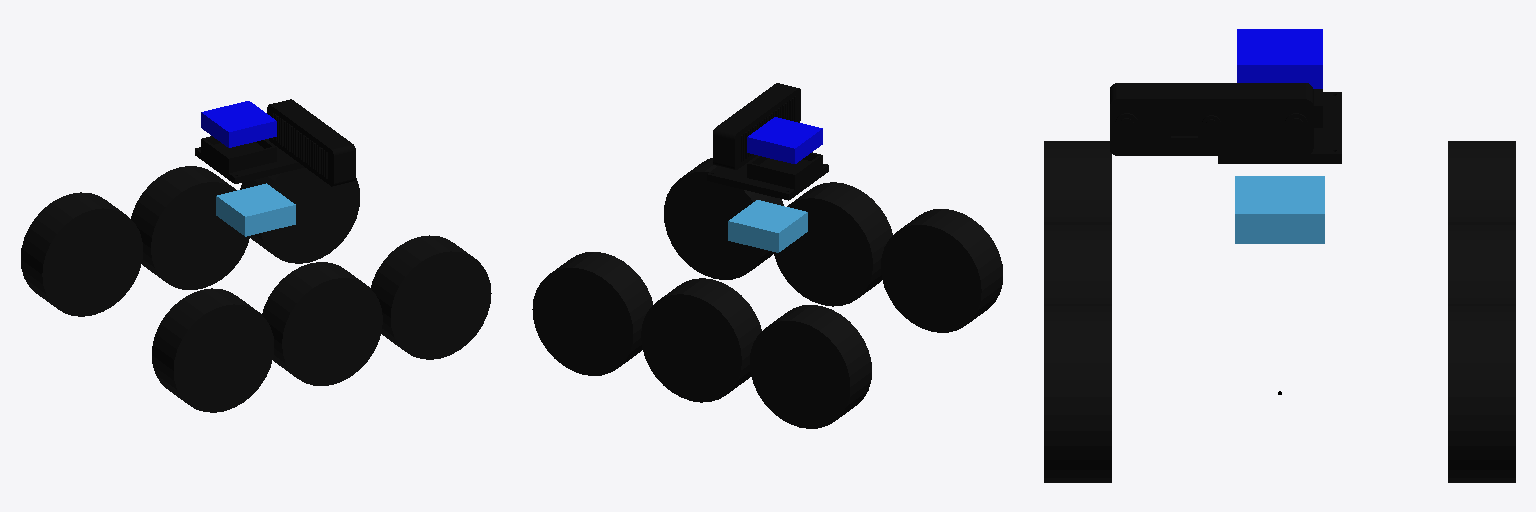
robot.urdf — mickrobot:
<?xml version='1.0' encoding='utf-8'?>
<robot name="mickrobot">
  <link name="base_footprint">
    <visual>
      <geometry>
        <sphere radius="0.001" />
      </geometry>
      <material name="invisible">
        <color rgba="0 0 0 0" />
      </material>
    </visual>
  </link>
  <joint name="base_joint" type="fixed">
    <parent link="base_footprint" />
    <child link="base_link" />
    <origin xyz="0 0 0" rpy="0 0 0" />
  </joint>
  <link name="top_payload_link">
    <visual>
      <origin xyz="0 0 0" rpy="0 0 0" />
      <geometry>
        <mesh filename="package://mickrobot_description/urdf/mesh/board_camera_radar_assembly.stl" scale="1 1 1" />
      </geometry>
      <material name="payload_dark">
        <color rgba="0.08 0.08 0.08 1" />
      </material>
    </visual>
    <collision>
      <origin xyz="0 0 0.0165" rpy="0 0 0" />
      <geometry>
        <box size="0.07 0.104 0.033" />
      </geometry>
    </collision>
    <inertial>
      <mass value="0.2" />
      <origin xyz="0 0 0.0165" rpy="0 0 0" />
      <inertia ixx="1e-4" ixy="0" ixz="0" iyy="1e-4" iyz="0" izz="1e-4" />
    </inertial>
  </link>
  <joint name="top_payload_joint" type="fixed">
    <parent link="base_link" />
    <child link="top_payload_link" />
    <origin xyz="0 0 0.128031" rpy="0 0 0" />
  </joint>
  <link name="base_link">
    <visual>
      <origin xyz="0 0 0.082" rpy="0 0 0" />
      <geometry>
        <mesh filename="package://mickrobot_description/urdf/mesh/ugv01_body.STL" scale="0.001 0.001 0.001" />
      </geometry>
      <material name="chassis_gray">
        <color rgba="0.3 0.3 0.3 1" />
      </material>
    </visual>
    <collision>
      <origin xyz="0 0 0.07" rpy="0 0 0" />
      <geometry>
        <box size="0.253 0.23 0.14" />
      </geometry>
    </collision>
    <inertial>
      <mass value="5" />
      <origin xyz="0 0 0.065" rpy="0 0 0" />
      <inertia ixx="0.02" ixy="0" ixz="0" iyy="0.03" iyz="0" izz="0.04" />
    </inertial>
  </link>
  <link name="right_back_wheel">
    <visual>
      <origin xyz="0 0 0" rpy="1.57079 0 0" />
      <geometry>
        <cylinder radius="0.04" length="0.03" />
      </geometry>
      <material name="wheel_black">
        <color rgba="0.1 0.1 0.1 1" />
      </material>
    </visual>
    <collision>
      <origin xyz="0 0 0" rpy="1.57079 0 0" />
      <geometry>
        <cylinder radius="0.04" length="0.03" />
      </geometry>
    </collision>
    <inertial>
      <mass value="0.5" />
      <origin xyz="0 0 0" rpy="1.57079 0 0" />
      <inertia ixx="0.00024" ixy="0" ixz="0" iyy="0.00024" iyz="0" izz="0.0004" />
    </inertial>
  </link>
  <joint name="right_back_wheel_joint" type="continuous">
    <axis xyz="0 1 0" />
    <parent link="base_link" />
    <child link="right_back_wheel" />
    <origin xyz="-0.086 -0.09 0.04" />
    <limit effort="100" velocity="100" />
    <dynamics damping="0.1" friction="0.05" />
  </joint>
  <link name="right_front_wheel">
    <visual>
      <origin xyz="0 0 0" rpy="1.57079 0 0" />
      <geometry>
        <cylinder radius="0.04" length="0.03" />
      </geometry>
      <material name="wheel_black">
        <color rgba="0.1 0.1 0.1 1" />
      </material>
    </visual>
    <collision>
      <origin xyz="0 0 0" rpy="1.57079 0 0" />
      <geometry>
        <cylinder radius="0.04" length="0.03" />
      </geometry>
    </collision>
    <inertial>
      <mass value="0.5" />
      <origin xyz="0 0 0" rpy="1.57079 0 0" />
      <inertia ixx="0.00024" ixy="0" ixz="0" iyy="0.00024" iyz="0" izz="0.0004" />
    </inertial>
  </link>
  <joint name="right_front_wheel_joint" type="continuous">
    <axis xyz="0 1 0" />
    <parent link="base_link" />
    <child link="right_front_wheel" />
    <origin xyz="0.086 -0.09 0.04" />
    <limit effort="100" velocity="100" />
    <dynamics damping="0.1" friction="0.05" />
  </joint>
  <link name="left_back_wheel">
    <visual>
      <origin xyz="0 0 0" rpy="1.57079 0 0" />
      <geometry>
        <cylinder radius="0.04" length="0.03" />
      </geometry>
      <material name="wheel_black">
        <color rgba="0.1 0.1 0.1 1" />
      </material>
    </visual>
    <collision>
      <origin xyz="0 0 0" rpy="1.57079 0 0" />
      <geometry>
        <cylinder radius="0.04" length="0.03" />
      </geometry>
    </collision>
    <inertial>
      <mass value="0.5" />
      <origin xyz="0 0 0" rpy="1.57079 0 0" />
      <inertia ixx="0.00024" ixy="0" ixz="0" iyy="0.00024" iyz="0" izz="0.0004" />
    </inertial>
  </link>
  <joint name="left_back_wheel_joint" type="continuous">
    <axis xyz="0 1 0" />
    <parent link="base_link" />
    <child link="left_back_wheel" />
    <origin xyz="-0.086 0.09 0.04" />
    <limit effort="100" velocity="100" />
    <dynamics damping="0.1" friction="0.05" />
  </joint>
  <link name="left_front_wheel">
    <visual>
      <origin xyz="0 0 0" rpy="1.57079 0 0" />
      <geometry>
        <cylinder radius="0.04" length="0.03" />
      </geometry>
      <material name="wheel_black">
        <color rgba="0.1 0.1 0.1 1" />
      </material>
    </visual>
    <collision>
      <origin xyz="0 0 0" rpy="1.57079 0 0" />
      <geometry>
        <cylinder radius="0.04" length="0.03" />
      </geometry>
    </collision>
    <inertial>
      <mass value="0.5" />
      <origin xyz="0 0 0" rpy="1.57079 0 0" />
      <inertia ixx="0.00024" ixy="0" ixz="0" iyy="0.00024" iyz="0" izz="0.0004" />
    </inertial>
  </link>
  <joint name="left_front_wheel_joint" type="continuous">
    <axis xyz="0 1 0" />
    <parent link="base_link" />
    <child link="left_front_wheel" />
    <origin xyz="0.086 0.09 0.04" />
    <limit effort="100" velocity="100" />
    <dynamics damping="0.1" friction="0.05" />
  </joint>
  <link name="right_mid_wheel">
    <visual>
      <origin xyz="0 0 0" rpy="1.57079 0 0" />
      <geometry>
        <cylinder radius="0.04" length="0.03" />
      </geometry>
      <material name="wheel_black">
        <color rgba="0.1 0.1 0.1 1" />
      </material>
    </visual>
    <collision>
      <origin xyz="0 0 0" rpy="1.57079 0 0" />
      <geometry>
        <cylinder radius="0.04" length="0.03" />
      </geometry>
    </collision>
    <inertial>
      <mass value="0.5" />
      <origin xyz="0 0 0" rpy="1.57079 0 0" />
      <inertia ixx="0.00024" ixy="0" ixz="0" iyy="0.00024" iyz="0" izz="0.0004" />
    </inertial>
  </link>
  <joint name="right_mid_wheel_joint" type="continuous">
    <axis xyz="0 1 0" />
    <parent link="base_link" />
    <child link="right_mid_wheel" />
    <origin xyz="0.000 -0.09 0.04" />
    <limit effort="100" velocity="100" />
    <dynamics damping="0.05" friction="0.02" />
  </joint>
  <link name="left_mid_wheel">
    <visual>
      <origin xyz="0 0 0" rpy="1.57079 0 0" />
      <geometry>
        <cylinder radius="0.04" length="0.03" />
      </geometry>
      <material name="wheel_black">
        <color rgba="0.1 0.1 0.1 1" />
      </material>
    </visual>
    <collision>
      <origin xyz="0 0 0" rpy="1.57079 0 0" />
      <geometry>
        <cylinder radius="0.04" length="0.03" />
      </geometry>
    </collision>
    <inertial>
      <mass value="0.5" />
      <origin xyz="0 0 0" rpy="1.57079 0 0" />
      <inertia ixx="0.00024" ixy="0" ixz="0" iyy="0.00024" iyz="0" izz="0.0004" />
    </inertial>
  </link>
  <joint name="left_mid_wheel_joint" type="continuous">
    <axis xyz="0 1 0" />
    <parent link="base_link" />
    <child link="left_mid_wheel" />
    <origin xyz="0.000 0.09 0.04" />
    <limit effort="100" velocity="100" />
    <dynamics damping="0.05" friction="0.02" />
  </joint>
  <link name="imu_link">
    <visual>
      <geometry>
        <box size="0.04 0.04 0.015" />
      </geometry>
    </visual>
    <collision>
      <geometry>
        <box size="0.04 0.04 0.015" />
      </geometry>
    </collision>
    <inertial>
      <mass value="0.1" />
      <inertia ixx="3.333e-6" ixy="0" ixz="0" iyy="3.333e-6" iyz="0" izz="3.333e-6" />
    </inertial>
  </link>
  <joint name="imu_joint" type="fixed">
    <parent link="base_link" />
    <child link="imu_link" />
    <origin xyz="0 0 0.09" rpy="0 0 0" />
  </joint>
  <link name="laser_link">
    <visual>
      <origin xyz="0 0 0" rpy="0 0 0" />
      <geometry>
        <box size="0.038 0.038 0.012" />
      </geometry>
      <material name="lidar_base_blue">
        <color rgba="0.05 0.05 1.0 1" />
      </material>
    </visual>
    <collision>
      <origin xyz="0 0 0" rpy="0 0 0" />
      <geometry>
        <box size="0.038 0.038 0.012" />
      </geometry>
    </collision>
    <inertial>
      <mass value="0.2" />
      <inertia ixx="3.333e-5" ixy="0" ixz="0" iyy="3.333e-5" iyz="0" izz="3.333e-5" />
    </inertial>
  </link>
  <joint name="laser_joint" type="fixed">
    <parent link="base_link" />
    <child link="laser_link" />
    <origin xyz="-0.0135 0 0.158031" rpy="0 0 0" />
  </joint>
  <link name="camera_left_link">
    <visual>
      <origin xyz="0 0 0" rpy="0 0 0" />
      <geometry>
        <box size="0.001 0.001 0.001" />
      </geometry>
      <material name="sensor_frame_invisible">
        <color rgba="0 0 0 0" />
      </material>
    </visual>
    <collision>
      <origin xyz="0 0 0" rpy="0 0 0" />
      <geometry>
        <box size="0.001 0.001 0.001" />
      </geometry>
    </collision>
    <inertial>
      <mass value="0.001" />
      <inertia ixx="1e-9" ixy="0" ixz="0" iyy="1e-9" iyz="0" izz="1e-9" />
    </inertial>
  </link>
  <joint name="camera_left_joint" type="fixed">
    <parent link="base_link" />
    <child link="camera_left_link" />
    <origin xyz="0.0357 0.007274 0.149031" rpy="0 0 0" />
  </joint>
  <link name="camera_rgb_link">
    <visual>
      <origin xyz="0 0 0" rpy="0 0 0" />
      <geometry>
        <box size="0.001 0.001 0.001" />
      </geometry>
      <material name="sensor_frame_invisible">
        <color rgba="0 0 0 0" />
      </material>
    </visual>
    <collision>
      <origin xyz="0 0 0" rpy="0 0 0" />
      <geometry>
        <box size="0.001 0.001 0.001" />
      </geometry>
    </collision>
    <inertial>
      <mass value="0.001" />
      <inertia ixx="1e-9" ixy="0" ixz="0" iyy="1e-9" iyz="0" izz="1e-9" />
    </inertial>
  </link>
  <joint name="camera_rgb_joint" type="fixed">
    <parent link="base_link" />
    <child link="camera_rgb_link" />
    <origin xyz="0.0357 -0.0305 0.149031" rpy="0 0 0" />
  </joint>
  <link name="camera_right_link">
    <visual>
      <origin xyz="0 0 0" rpy="0 0 0" />
      <geometry>
        <box size="0.001 0.001 0.001" />
      </geometry>
      <material name="sensor_frame_invisible">
        <color rgba="0 0 0 0" />
      </material>
    </visual>
    <collision>
      <origin xyz="0 0 0" rpy="0 0 0" />
      <geometry>
        <box size="0.001 0.001 0.001" />
      </geometry>
    </collision>
    <inertial>
      <mass value="0.001" />
      <inertia ixx="1e-9" ixy="0" ixz="0" iyy="1e-9" iyz="0" izz="1e-9" />
    </inertial>
  </link>
  <joint name="camera_right_joint" type="fixed">
    <parent link="base_link" />
    <child link="camera_right_link" />
    <origin xyz="0.0357 -0.068274 0.149031" rpy="0 0 0" />
  </joint>
  <gazebo reference="left_front_wheel">
    <mu1>1.5</mu1>
    <mu2>0.3</mu2>
    <fdir1>1 0 0</fdir1>
  </gazebo>
  <gazebo reference="right_front_wheel">
    <mu1>1.5</mu1>
    <mu2>0.3</mu2>
    <fdir1>1 0 0</fdir1>
  </gazebo>
  <gazebo reference="left_back_wheel">
    <mu1>1.5</mu1>
    <mu2>0.3</mu2>
    <fdir1>1 0 0</fdir1>
  </gazebo>
  <gazebo reference="right_back_wheel">
    <mu1>1.5</mu1>
    <mu2>0.3</mu2>
    <fdir1>1 0 0</fdir1>
  </gazebo>
  <gazebo reference="left_mid_wheel">
    <mu1>0.05</mu1>
    <mu2>0.05</mu2>
  </gazebo>
  <gazebo reference="right_mid_wheel">
    <mu1>0.05</mu1>
    <mu2>0.05</mu2>
  </gazebo>
  <gazebo>
    <plugin filename="gz-sim-diff-drive-system" name="gz::sim::systems::DiffDrive">
      <left_joint>left_front_wheel_joint</left_joint>
      <left_joint>left_mid_wheel_joint</left_joint>
      <left_joint>left_back_wheel_joint</left_joint>
      <right_joint>right_front_wheel_joint</right_joint>
      <right_joint>right_mid_wheel_joint</right_joint>
      <right_joint>right_back_wheel_joint</right_joint>
      <wheel_separation>0.18</wheel_separation>
      <wheel_radius>0.04</wheel_radius>
      <max_linear_acceleration>2.0</max_linear_acceleration>
      <max_angular_acceleration>3.0</max_angular_acceleration>
      <topic>cmd_vel</topic>
      <odom_topic>odom</odom_topic>
      <tf_topic>tf</tf_topic>
      <frame_id>odom</frame_id>
      <child_frame_id>base_footprint</child_frame_id>
      <odom_publish_frequency>30</odom_publish_frequency>
    </plugin>
    <plugin filename="gz-sim-joint-state-publisher-system" name="gz::sim::systems::JointStatePublisher">
      <topic>joint_states</topic>
    </plugin>
  </gazebo>
  <gazebo reference="imu_link">
    <sensor name="imu_sensor" type="imu">
      <always_on>true</always_on>
      <update_rate>30</update_rate>
      <visualize>true</visualize>
      <topic>imu/data</topic>
    </sensor>
  </gazebo>
  <gazebo reference="camera_left_link">
    <sensor name="camera_left_sensor" type="camera">
      <always_on>true</always_on>
      <update_rate>30</update_rate>
      <visualize>true</visualize>
      <topic>camera/left/image_raw</topic>
      <camera>
        <horizontal_fov>1.047</horizontal_fov>
        <image>
          <width>640</width>
          <height>480</height>
          <format>R8G8B8</format>
        </image>
        <clip>
          <near>0.1</near>
          <far>100</far>
        </clip>
      </camera>
    </sensor>
  </gazebo>
  <gazebo reference="camera_right_link">
    <sensor name="camera_right_sensor" type="camera">
      <always_on>true</always_on>
      <update_rate>30</update_rate>
      <visualize>true</visualize>
      <topic>camera/right/image_raw</topic>
      <camera>
        <horizontal_fov>1.047</horizontal_fov>
        <image>
          <width>640</width>
          <height>480</height>
          <format>R8G8B8</format>
        </image>
        <clip>
          <near>0.1</near>
          <far>100</far>
        </clip>
      </camera>
    </sensor>
  </gazebo>
  <gazebo reference="laser_link">
    <material>Gazebo/Blue</material>
    <sensor name="lidar" type="gpu_lidar">
      <pose>0 0 0 0 0 0</pose>
      <always_on>true</always_on>
      <visualize>true</visualize>
      <update_rate>10</update_rate>
      <topic>scan</topic>
      <ray>
        <scan>
          <horizontal>
            <samples>360</samples>
            <resolution>1</resolution>
            <min_angle>-3.14159</min_angle>
            <max_angle>3.14159</max_angle>
          </horizontal>
        </scan>
        <range>
          <min>0.12</min>
          <max>12.0</max>
          <resolution>0.01</resolution>
        </range>
      </ray>
    </sensor>
  </gazebo>
</robot>

--- Facts derived from the render (not from the file) ---
The picture shows the robot from 3 angles, left to right: view 1: azimuth 30°, elevation 25°; view 2: azimuth 150°, elevation 25°; view 3: azimuth 270°, elevation 25°; orthographic projection.
Model mickrobot with 14 links and 13 joints (6 continuous, 7 fixed), rooted at base_footprint, posed every joint at zero.
Visible links, largest first — view 1: right_back_wheel, left_back_wheel, right_mid_wheel, right_front_wheel, left_mid_wheel, top_payload_link, left_front_wheel, imu_link, laser_link; view 2: right_back_wheel, left_back_wheel, left_mid_wheel, left_front_wheel, right_mid_wheel, right_front_wheel, top_payload_link, imu_link, laser_link; view 3: top_payload_link, right_front_wheel, left_front_wheel, imu_link, right_mid_wheel, left_mid_wheel, left_back_wheel, right_back_wheel, laser_link.
Boxes of the visible links, x1,y1,x2,y2 form: right_back_wheel: (152,288,273,412); left_back_wheel: (21,192,142,316); right_mid_wheel: (262,262,382,385); right_front_wheel: (371,235,491,359); left_mid_wheel: (131,166,249,289); top_payload_link: (195,99,355,186); left_front_wheel: (240,168,359,263); imu_link: (216,183,295,236); laser_link: (201,101,276,147); right_back_wheel: (881,209,1002,332); left_back_wheel: (750,305,871,428); left_mid_wheel: (641,278,761,402); left_front_wheel: (532,252,652,375); right_mid_wheel: (774,182,892,306); right_front_wheel: (664,158,783,279); top_payload_link: (707,83,828,200); imu_link: (728,200,807,252); laser_link: (747,117,822,163); top_payload_link: (1110,83,1341,163); right_front_wheel: (1044,304,1111,482); left_front_wheel: (1448,304,1515,482); imu_link: (1235,176,1324,243); right_mid_wheel: (1044,222,1111,303); left_mid_wheel: (1448,222,1515,303); left_back_wheel: (1448,141,1515,221); right_back_wheel: (1044,141,1111,221); laser_link: (1237,29,1322,88).
Bounding box of the posed robot: 0.252 × 0.21 × 0.165 m (x, y, z).
1 mesh visuals loaded from 2 distinct referenced files (1 binary STL); not drawn: 1 (reference not matched to a file when rendering).
